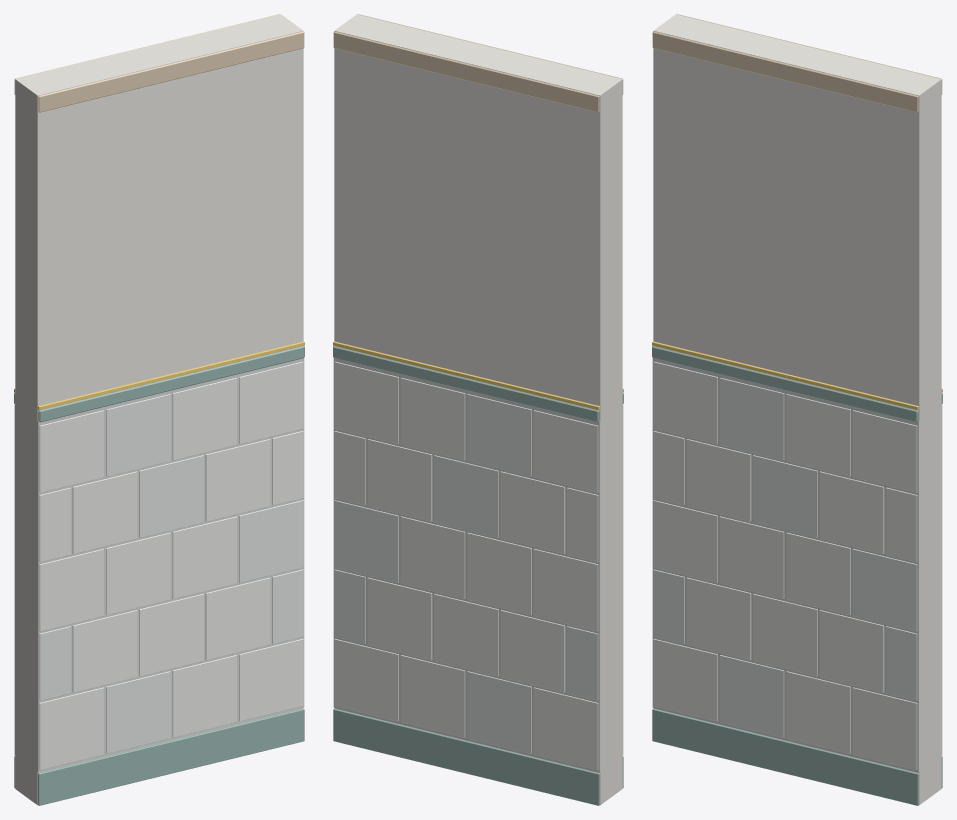
Rendered from Structure-CivicWall.fbx.
3 views of the same model, side by side, from view 1: azimuth 30°, elevation 25°; view 2: azimuth 150°, elevation 25°; view 3: azimuth 330°, elevation 25° (orthographic).
Parts seen in each view (by area): view 1: Structure-CivicWall Mesh; view 2: Structure-CivicWall Mesh; view 3: Structure-CivicWall Mesh.
Boxes of the visible parts, box(x1,y1,x2,y2) form: Structure-CivicWall Mesh: box(14, 14, 304, 805); Structure-CivicWall Mesh: box(333, 14, 623, 805); Structure-CivicWall Mesh: box(652, 14, 942, 805).
Size of the model in its own units: 1 by 2.55 by 0.17.
